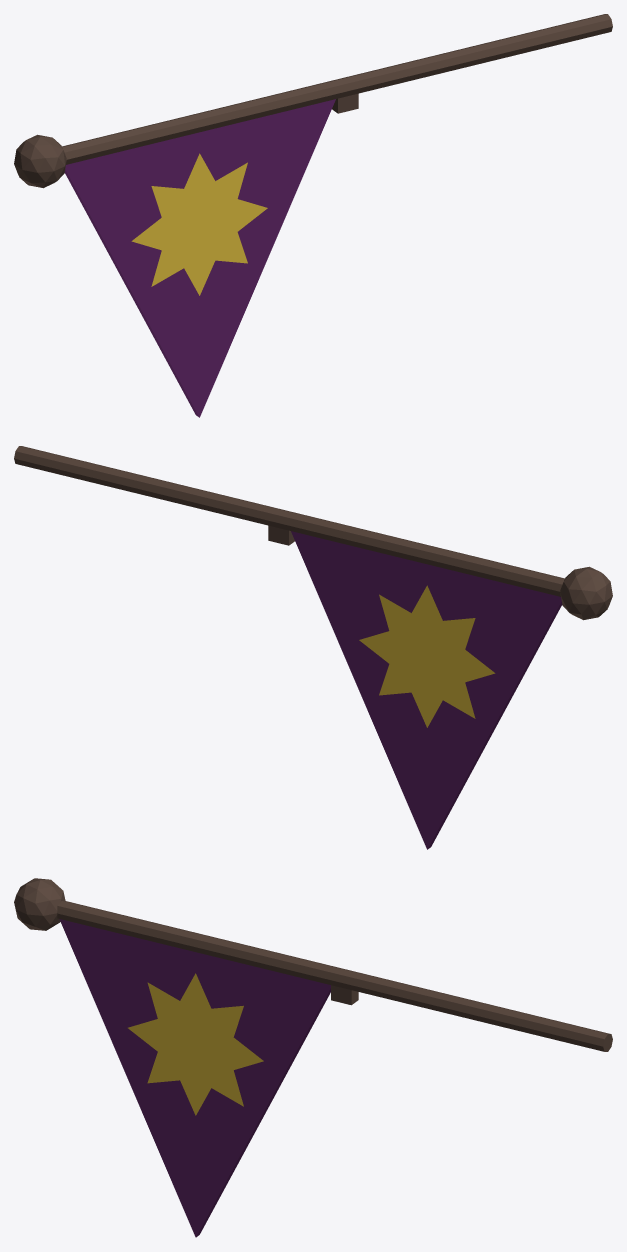
File: fantasy_sign_banner_1.fbx
3 renders of one model, top to bottom at view 1: azimuth 30°, elevation 25°; view 2: azimuth 150°, elevation 25°; view 3: azimuth 330°, elevation 25°, orthographic.
Parts seen in each view (by area): view 1: Cube.024, Cylinder.004; view 2: Cube.024, Cylinder.004; view 3: Cube.024, Cylinder.004.
Part boxes in pixels (bbox=[...]): Cube.024: bbox=[64, 99, 335, 417]; Cylinder.004: bbox=[14, 14, 612, 188]; Cube.024: bbox=[291, 531, 562, 849]; Cylinder.004: bbox=[14, 446, 612, 620]; Cube.024: bbox=[59, 919, 330, 1237]; Cylinder.004: bbox=[14, 878, 612, 1051].
Size of the model in its own units: 86.26 by 44.43 by 6.85.
